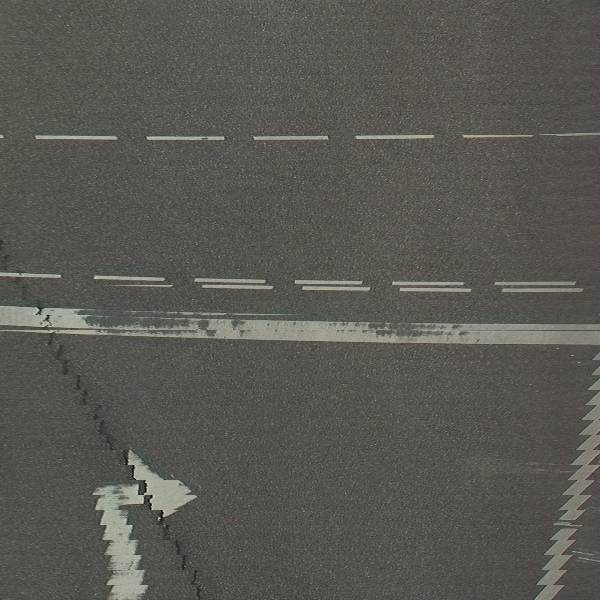road_damage: (62, 359, 199, 586)
